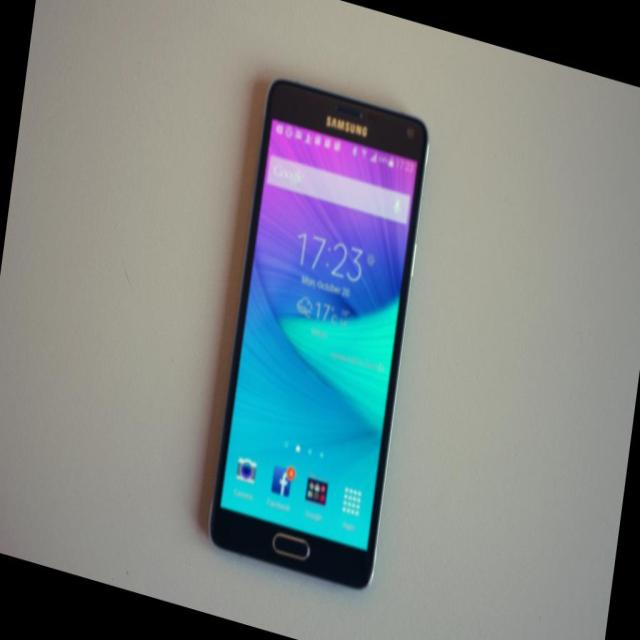handphone: (215, 84, 429, 586)
